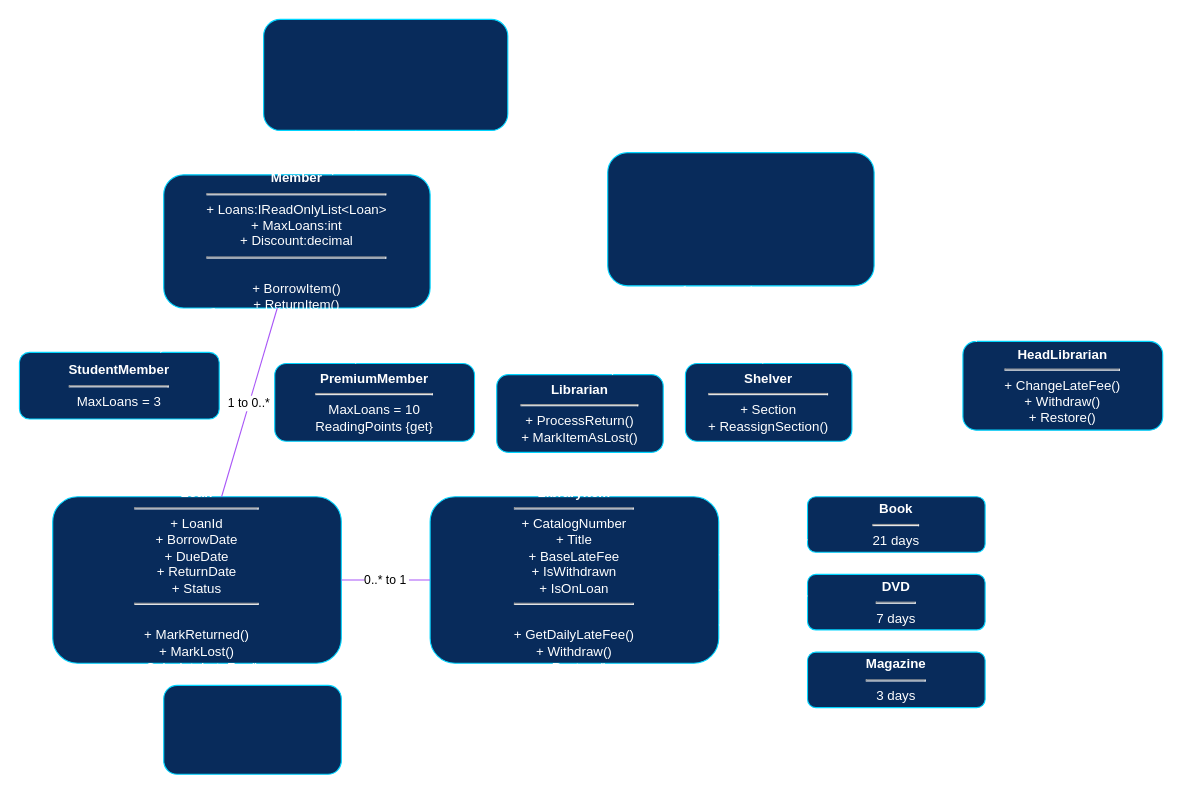
Image size: 1182x794. Some labels were removed from this diagram. Each missing label, with the box of its shape:
LoanStatus Borrowed Returned Lost: (163, 684, 341, 774)
Person + PersonId:int {get} + FullName:string {get} + PhoneNumber:string {get}: (263, 18, 508, 130)
Staff + HireDate + MonthlySalary {private set} + GiveRaise() + GetMonthlyPay(): (607, 152, 874, 286)
